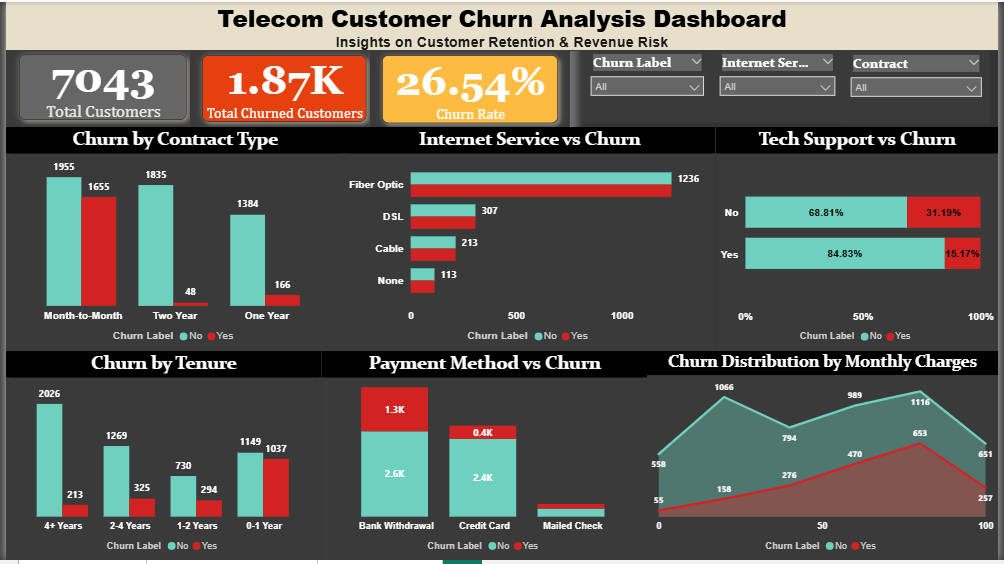

The page's visual inventory and layout, read from the dashboard file:
{"tool":"powerbi","page":{"name":"Churn Overview","canvas":[1280,720],"ordinal":0},"visuals":[{"type":"cardVisual","fields":{"Data":["Telco.Total Customers"]},"box":[1,51,247,116],"z":0},{"type":"cardVisual","fields":{"Data":["Telco.Churn Customers"]},"box":[237.5,53,243,117],"z":1000},{"type":"cardVisual","fields":{"Data":["Telco.Churn Rate"]},"box":[470,53,258,119],"z":2000},{"type":"clusteredColumnChart","title":"Churn by Contract Type","fields":{"Category":["Telco.Contract"],"Y":["Telco.Total Customers"],"Series":["Telco.Churn Label"]},"box":[0,161.6,436.5,289.1],"z":3000},{"type":"clusteredColumnChart","title":"Churn by Tenure","fields":{"Category":["Telco.Tenure Group"],"Series":["Telco.Churn Label"],"Y":["Telco.Total Customers"]},"box":[0,450.1,407.4,269.8],"z":4000},{"type":"shape","title":"Telecom Customer Churn Analysis Dashboard","box":[0,0,1280,63.2],"z":5000},{"type":"clusteredBarChart","title":"Internet Service vs Churn","fields":{"Category":["Telco.Internet Type"],"Y":["Telco.Churn Customers"],"Series":["Telco.Churn Label"]},"box":[436.5,161.6,479.1,289.1],"z":6000},{"type":"columnChart","title":"Payment Method vs Churn","fields":{"Category":["Telco.Payment Method"],"Y":["Telco.Total Customers"],"Series":["Telco.Churn Label"]},"box":[407.4,450.1,419.8,269.8],"z":7000},{"type":"areaChart","title":"Churn Distribution by Monthly Charges","fields":{"Category":["Telco.Monthly Charge (bins)"],"Series":["Telco.Churn Label"],"Y":["Telco.Total Customers"]},"box":[827.2,450.1,452.8,269.8],"z":8000},{"type":"slicer","fields":{"Values":["Telco.Churn Label"]},"box":[744.5,61.9,166.5,94.2],"z":9000},{"type":"slicer","fields":{"Values":["Telco.Internet Service"]},"box":[911.1,61.9,169.3,93.6],"z":10000},{"type":"hundredPercentStackedBarChart","title":"Tech Support vs Churn","fields":{"Category":["Telco.Premium Tech Support"],"Y":["Telco.Total Customers"],"Series":["Telco.Churn Label"]},"box":[915.6,161.6,364.3,289.1],"z":11000},{"type":"slicer","fields":{"Values":["Telco.Contract"]},"box":[1080.4,63.3,188.6,93.6],"z":12000}]}

Visuals, with their boxes in screenshot pixels (x1, y1, x2, y2), scaled from the page's 1280x720 canvas onto the 1004x564 screenshot:
cardVisual - Telco.Total Customers: [1, 40, 195, 131]
cardVisual - Telco.Churn Customers: [186, 42, 377, 133]
cardVisual - Telco.Churn Rate: [369, 42, 571, 135]
"Churn by Contract Type" clusteredColumnChart: [0, 127, 342, 353]
"Churn by Tenure" clusteredColumnChart: [0, 353, 320, 563]
"Telecom Customer Churn Analysis Dashboard" shape: [0, 0, 1003, 50]
"Internet Service vs Churn" clusteredBarChart: [342, 127, 718, 353]
"Payment Method vs Churn" columnChart: [320, 353, 649, 563]
"Churn Distribution by Monthly Charges" areaChart: [649, 353, 1003, 563]
slicer - Telco.Churn Label: [584, 48, 715, 122]
slicer - Telco.Internet Service: [715, 48, 847, 122]
"Tech Support vs Churn" hundredPercentStackedBarChart: [718, 127, 1003, 353]
slicer - Telco.Contract: [847, 50, 995, 123]
